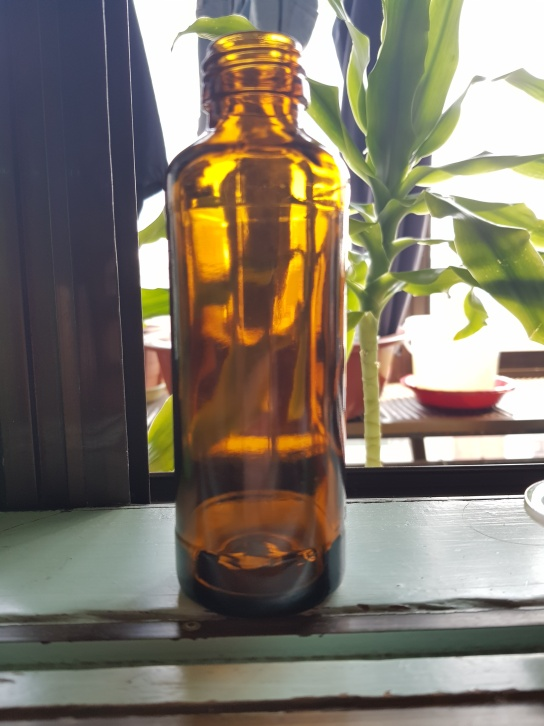Glass: (161, 29, 351, 627)
